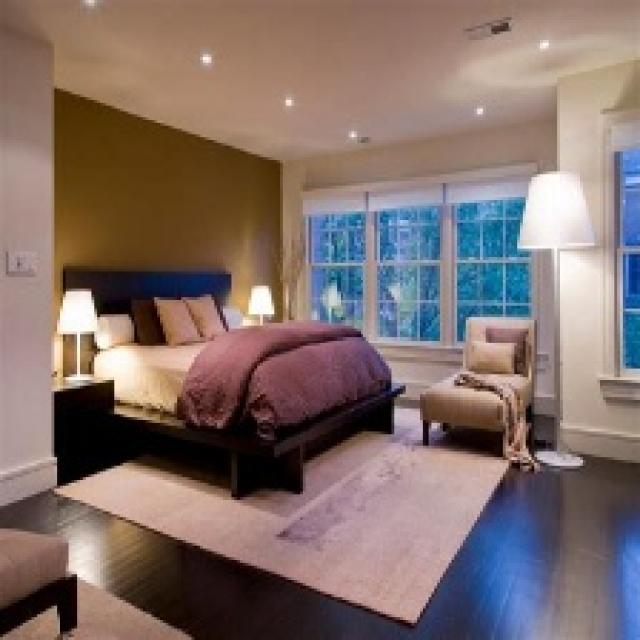Bed: (60, 263, 406, 497)
